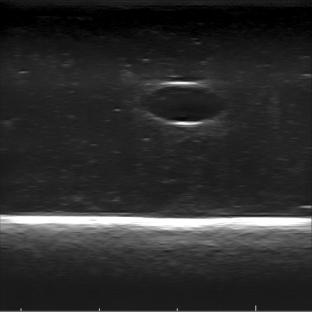vessel: (137, 81, 228, 128)
